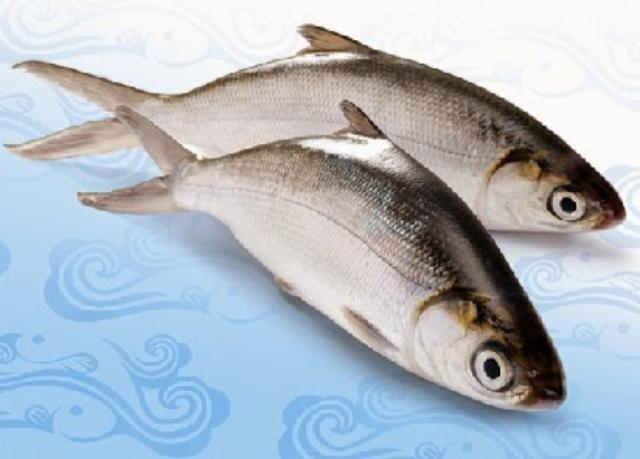Mulut: (482, 350, 590, 438), (573, 167, 637, 251)
Sirip Dada: (328, 292, 410, 372)
Sirip Ekor: (0, 38, 200, 174), (59, 97, 221, 227)
Sirip Perut: (258, 259, 312, 321)
Sirip Punggung: (273, 8, 392, 82), (322, 83, 398, 161)
